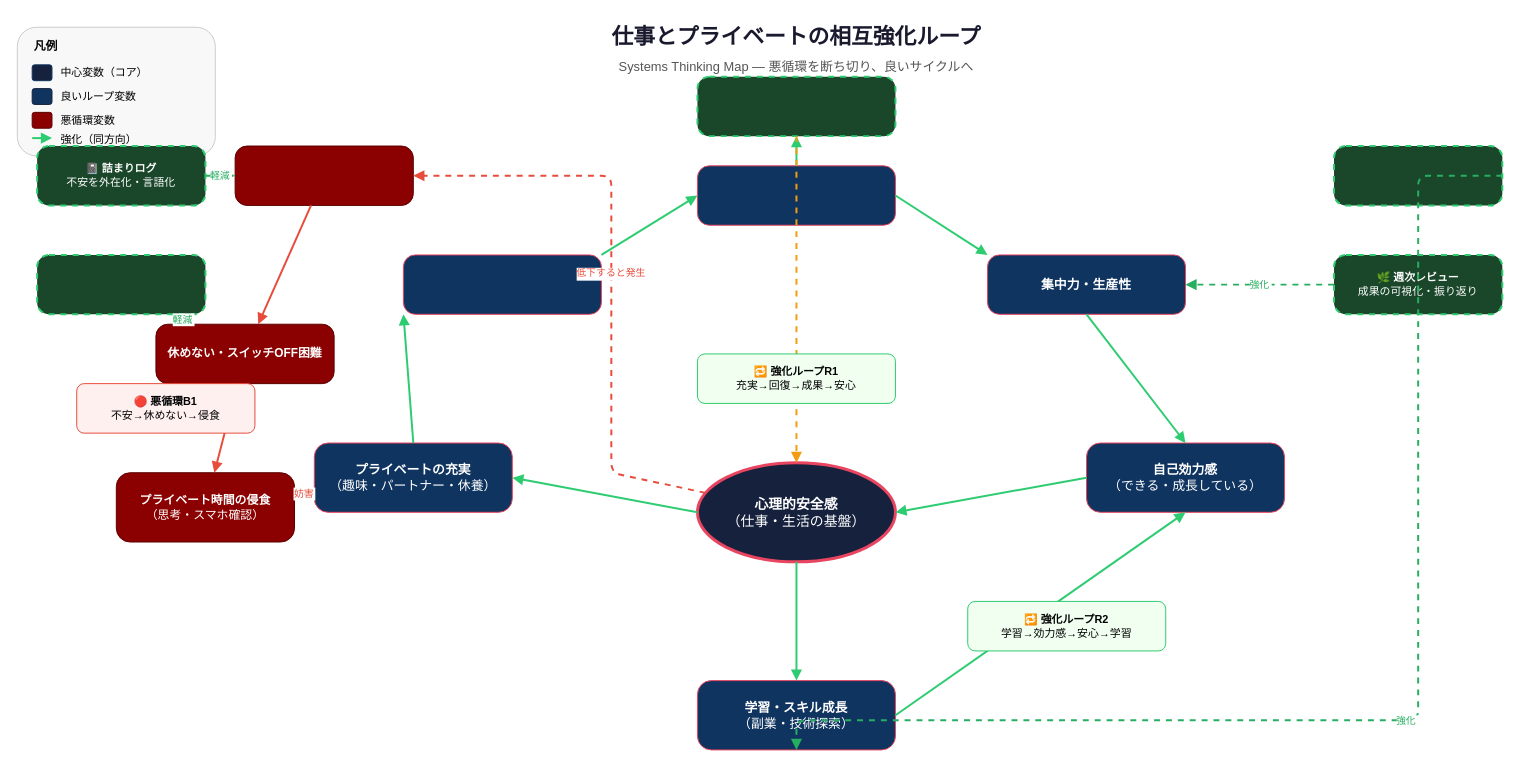
The diagram is 1529 pixels wide and 775 high, and some of its shapes have lost their labels. Each missing label, with the box of its shape:
エネルギー・体調の安定: (402, 254, 601, 314)
仕事の不安・反芻思考: (234, 145, 413, 205)
仕事の成果・手応え: (696, 165, 895, 225)
💡 arxivダイジェスト 朝の知的刺激・成長実感: (1333, 145, 1503, 206)
🛡️ シャットダウン儀式 退勤後の切替ルーティン: (36, 253, 206, 315)
🧭 朝のブリーフィング 今日の見通しを立てる: (696, 75, 896, 137)
